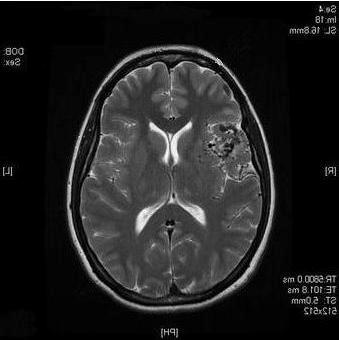Normal_Brain: (66, 32, 288, 335)
